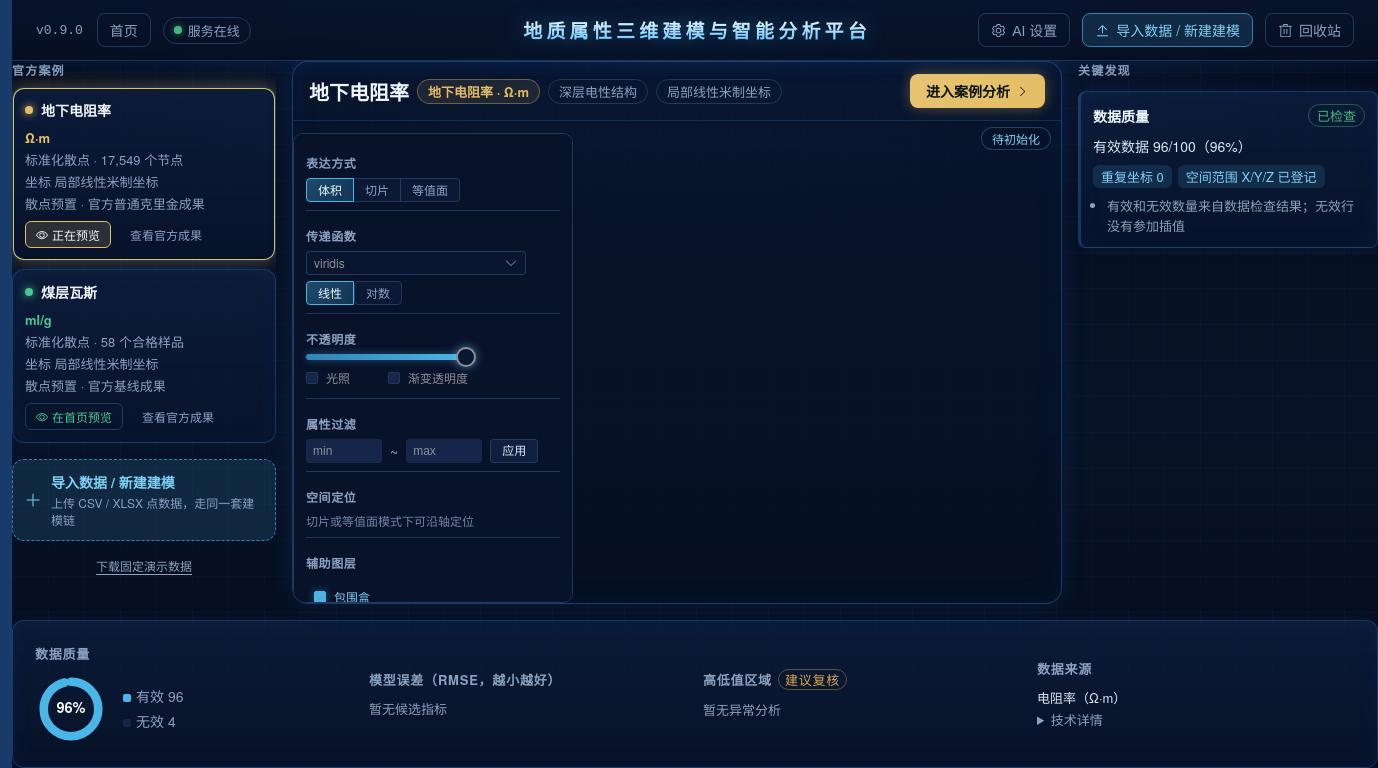
Test: CommandCenter 指挥舱 › switching cases updates variable, unit, accent, findings and result identity together
Expected: the element with test id "command-center-scene" shows "地下电阻率", top-left (309, 76), bottom-right (409, 106)
Expected: the element with test id "command-center-scene" shows "Ω·m", top-left (493, 82), bottom-right (529, 100)
// 切到瓦斯：全部联动更新
Click the button with test id "case-rail-item" showing "在首页预览" at (74, 416), box top-left (25, 403), bottom-right (123, 430)
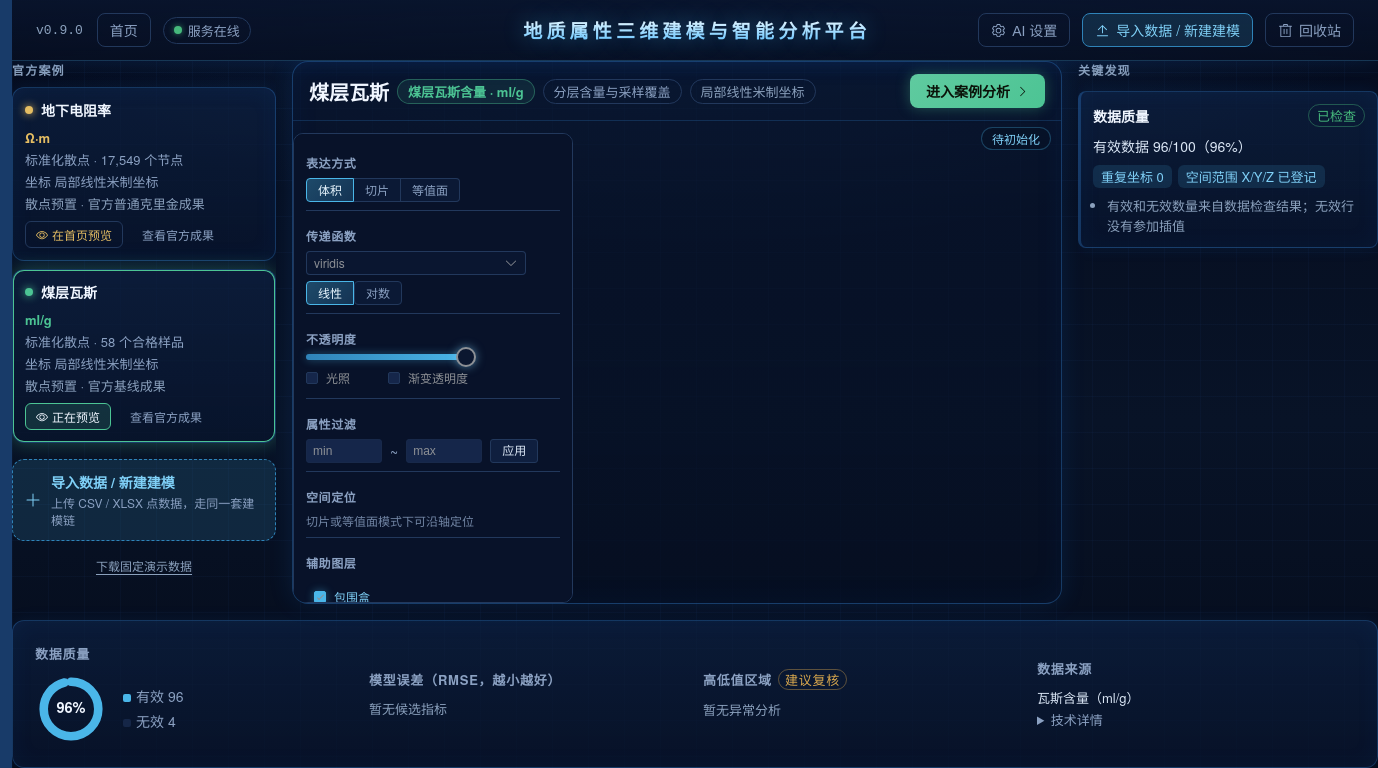
Expected: the element with test id "command-center-scene" shows "局部线性米制坐标", top-left (701, 82), bottom-right (805, 100)
Now the element with test id "command-center-scene" shows "煤层瓦斯", box top-left (309, 76), bottom-right (389, 106)
Now the element with test id "command-center-scene" shows "ml/g", box top-left (486, 82), bottom-right (524, 100)
